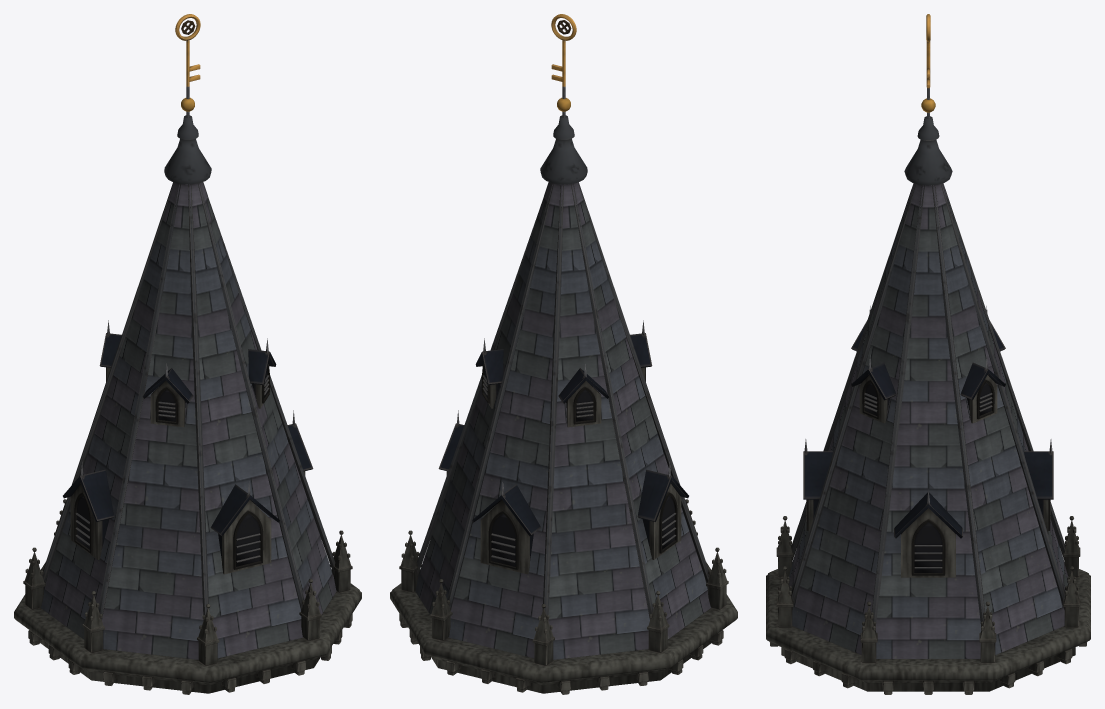
Rendered from OctagonSpire.fbx.
The picture shows the model from 3 angles, left to right: view 1: azimuth 30°, elevation 25°; view 2: azimuth 150°, elevation 25°; view 3: azimuth 270°, elevation 25°; orthographic projection.
Parts seen in each view (by area): view 1: OctagonSpire_Slate, OctagonSpire_Main; view 2: OctagonSpire_Slate, OctagonSpire_Main; view 3: OctagonSpire_Slate, OctagonSpire_Main.
Part boxes in pixels (x1=…): OctagonSpire_Slate: x1=40, y1=182, x2=336, y2=659; OctagonSpire_Main: x1=14, y1=14, x2=361, y2=694; OctagonSpire_Slate: x1=415, y1=182, x2=711, y2=659; OctagonSpire_Main: x1=390, y1=14, x2=737, y2=694; OctagonSpire_Slate: x1=788, y1=183, x2=1068, y2=658; OctagonSpire_Main: x1=766, y1=14, x2=1090, y2=694.
Bounding box in the file's own units: 890 × 1856 × 890.
